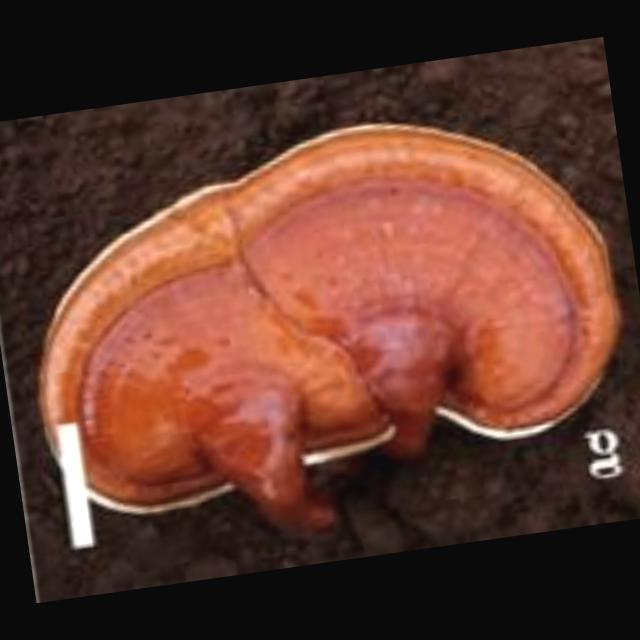ganoderma: (6, 90, 640, 532)
